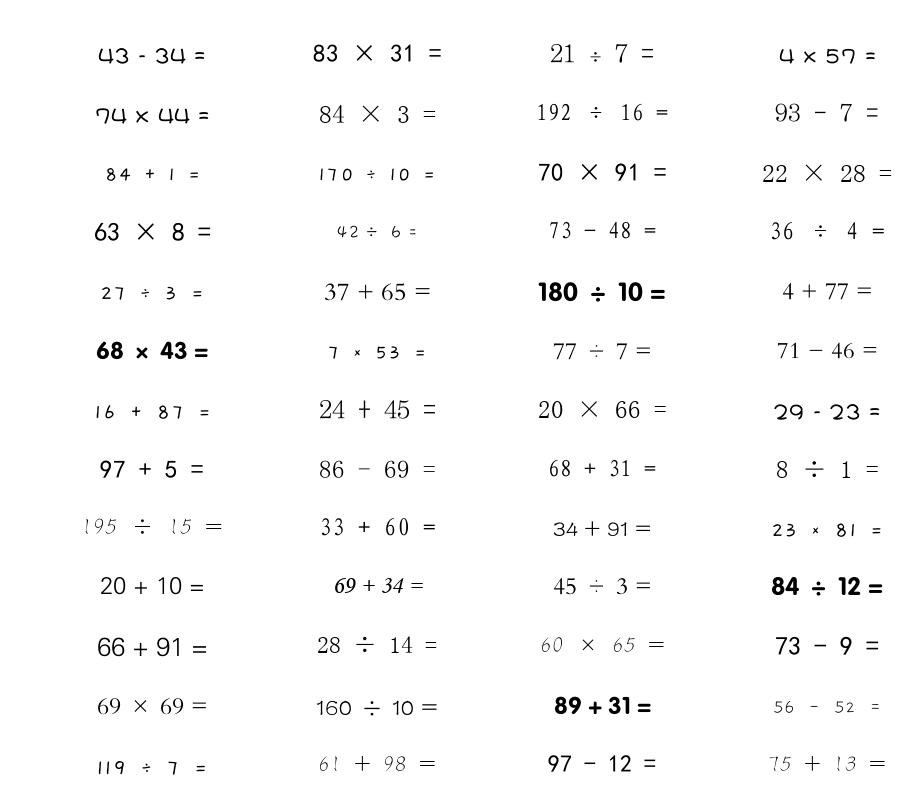MQ: (538, 282, 666, 302), (538, 163, 667, 182), (81, 518, 223, 535), (536, 103, 668, 121), (762, 164, 892, 182), (319, 399, 436, 419), (313, 44, 442, 62), (771, 576, 883, 596), (94, 222, 211, 241), (97, 637, 208, 657), (538, 401, 667, 418), (96, 341, 208, 360), (319, 105, 436, 123), (319, 460, 436, 478), (319, 518, 436, 536), (769, 222, 885, 240), (550, 43, 654, 63), (317, 636, 437, 653), (775, 103, 879, 122), (775, 636, 879, 655), (316, 700, 438, 716), (548, 221, 656, 239), (548, 459, 656, 477), (324, 283, 431, 301), (100, 577, 205, 595), (318, 756, 436, 772), (768, 756, 886, 772), (97, 698, 208, 715), (540, 637, 665, 652), (100, 460, 204, 478), (776, 460, 879, 478), (554, 696, 651, 715), (95, 108, 210, 124), (548, 755, 656, 772), (98, 48, 206, 64), (773, 404, 881, 420), (777, 342, 878, 359), (553, 343, 652, 360), (553, 578, 652, 595), (553, 520, 651, 537), (94, 405, 211, 419), (771, 523, 883, 537), (96, 761, 208, 775), (779, 48, 876, 64), (782, 283, 873, 300), (318, 168, 436, 181), (773, 700, 882, 714), (100, 286, 204, 300), (332, 577, 423, 593), (327, 346, 427, 359), (104, 168, 201, 181), (336, 225, 418, 239)
